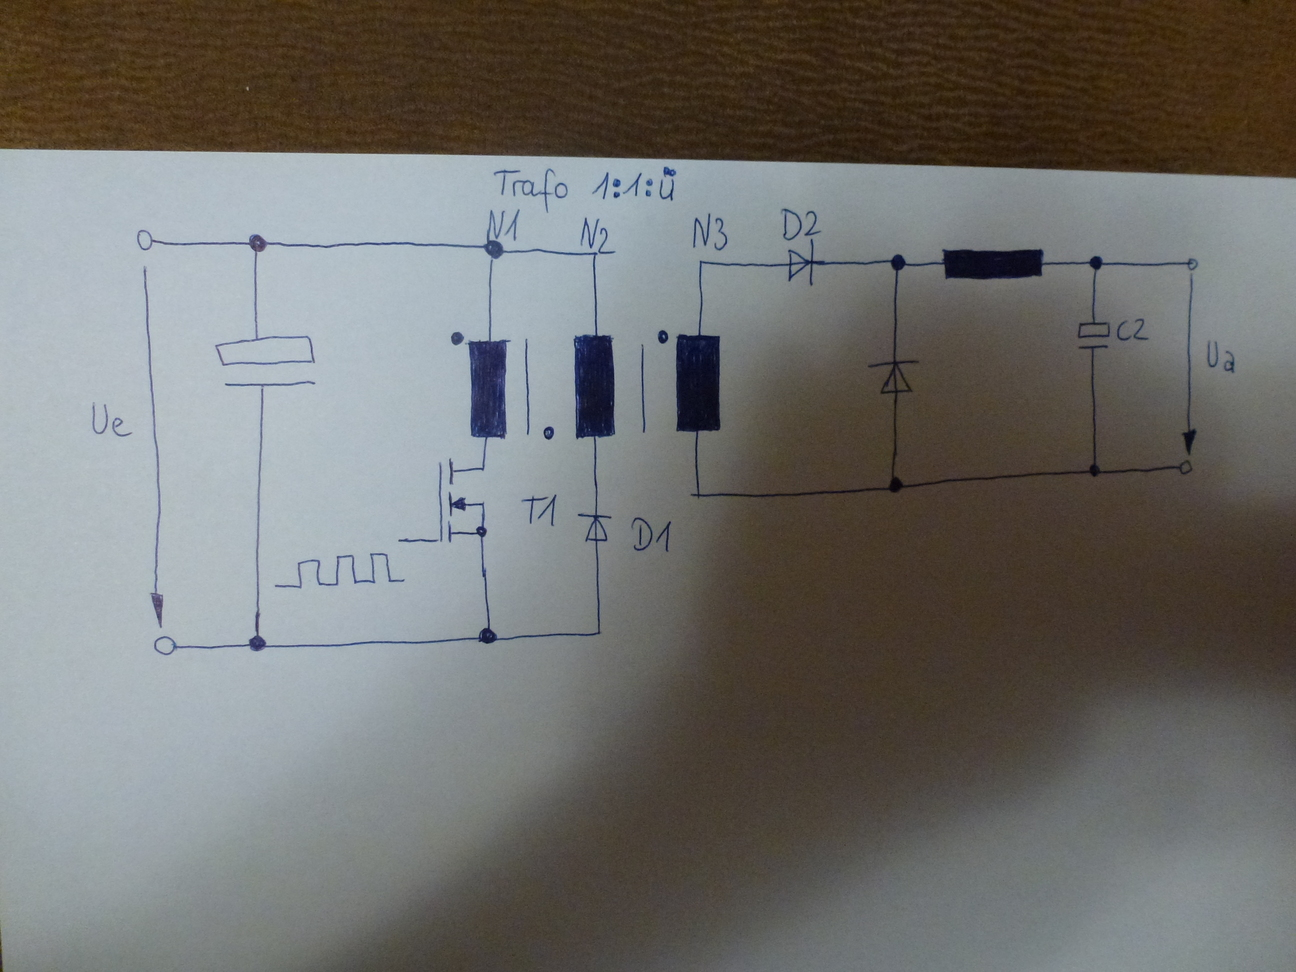capacitor.polarized: (207, 331, 322, 391), (1075, 319, 1113, 350)
diode: (865, 356, 923, 397), (782, 243, 816, 286), (576, 509, 613, 546)
inductor: (941, 240, 1052, 283)
junction: (244, 230, 273, 258), (243, 631, 271, 657), (884, 249, 909, 275), (483, 237, 505, 263), (475, 625, 500, 647), (885, 475, 905, 494), (1086, 253, 1105, 273), (1086, 461, 1103, 478), (688, 486, 704, 501), (694, 254, 708, 268), (589, 248, 603, 261), (592, 626, 605, 639)
terminal: (148, 632, 181, 659), (133, 225, 159, 255), (1176, 458, 1196, 477), (391, 532, 409, 550), (1184, 256, 1202, 273)
text: (480, 166, 687, 208), (629, 515, 677, 556), (87, 400, 132, 438), (688, 211, 729, 252), (777, 206, 823, 242), (577, 213, 613, 254), (522, 492, 560, 530), (1203, 338, 1238, 375), (487, 205, 518, 242), (1110, 317, 1150, 343)
transformer: (446, 326, 729, 446)
transistor: (433, 454, 494, 549)
